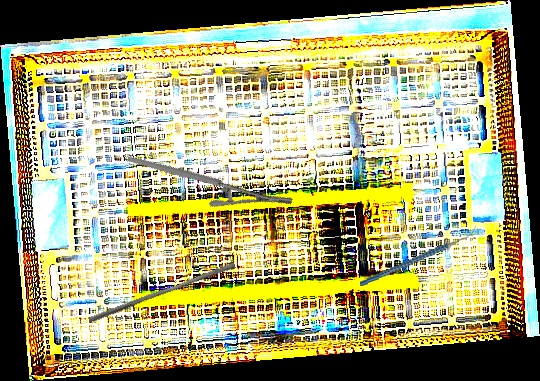Chopper: (356, 224, 480, 287)
Needle Holder: (126, 108, 295, 251)
Pusher: (87, 256, 237, 330)
